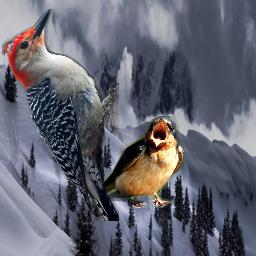Swallow: (90, 116, 185, 208)
Woodpecker: (2, 9, 119, 221)
